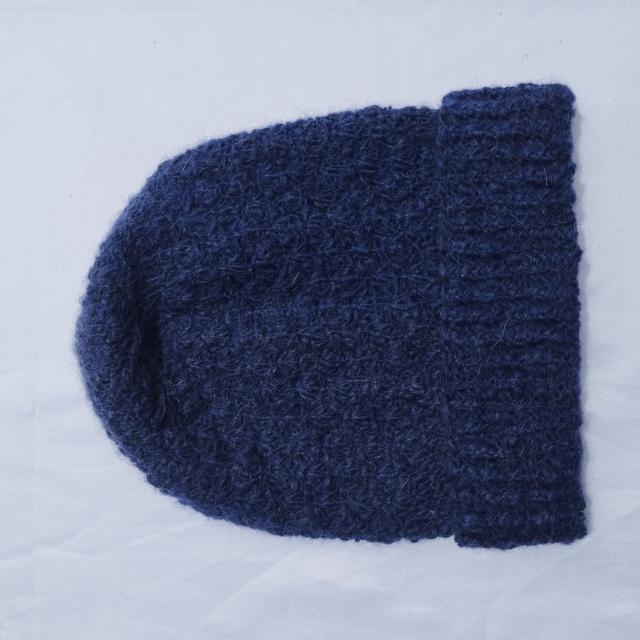Gorro: (73, 82, 588, 550)
